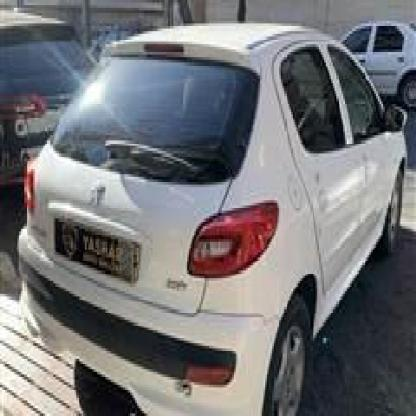Car: (16, 8, 409, 411), (0, 0, 109, 216), (324, 13, 416, 109)
